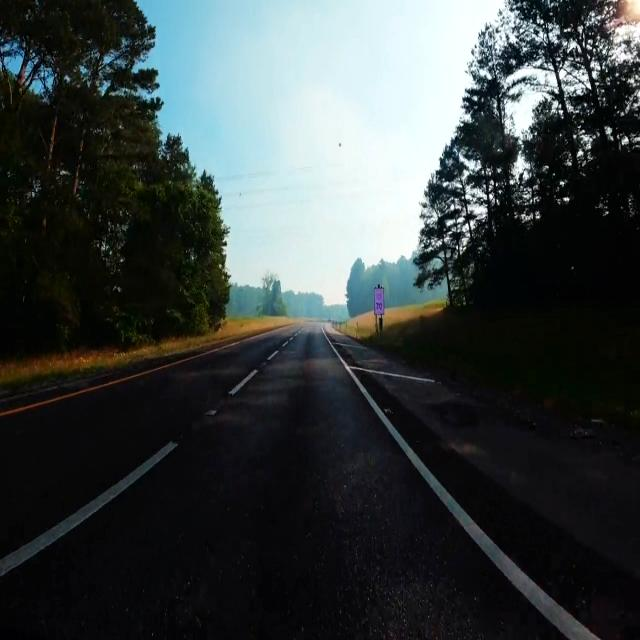road: (0, 324, 558, 637), (357, 372, 640, 636)
